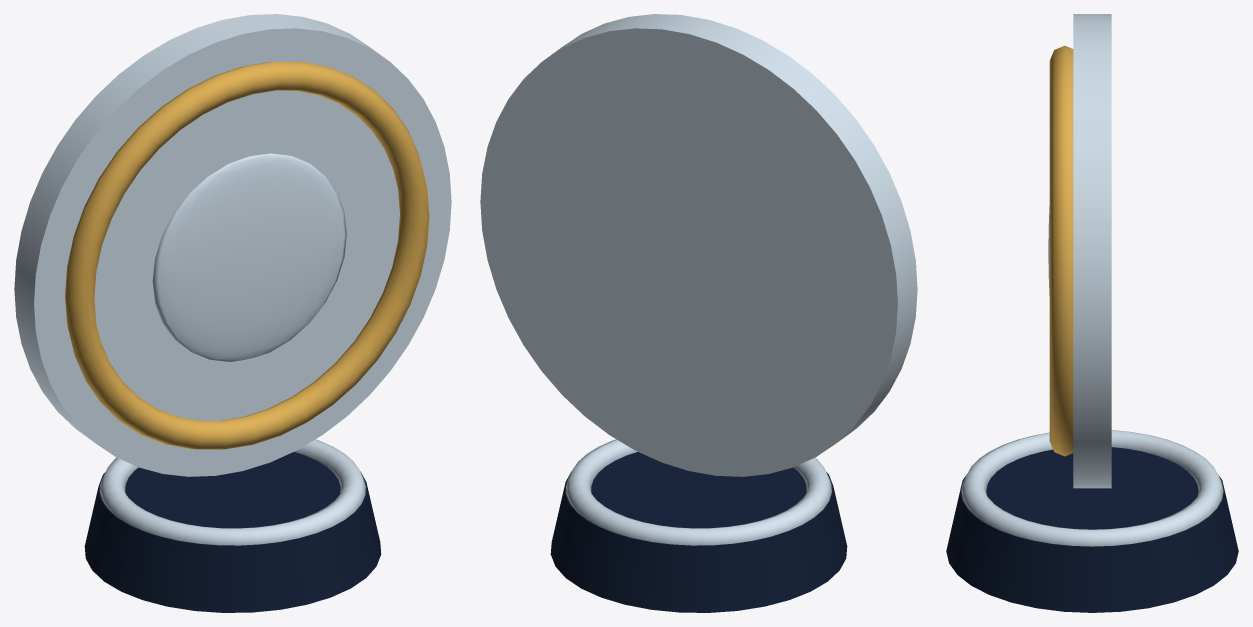
The model's file is blues-trophy-shield.glb.
3 views of the same model, side by side, from view 1: azimuth 30°, elevation 25°; view 2: azimuth 150°, elevation 25°; view 3: azimuth 270°, elevation 25° (orthographic).
Size of the model in its own units: 1.72 by 2.06 by 1.06.
